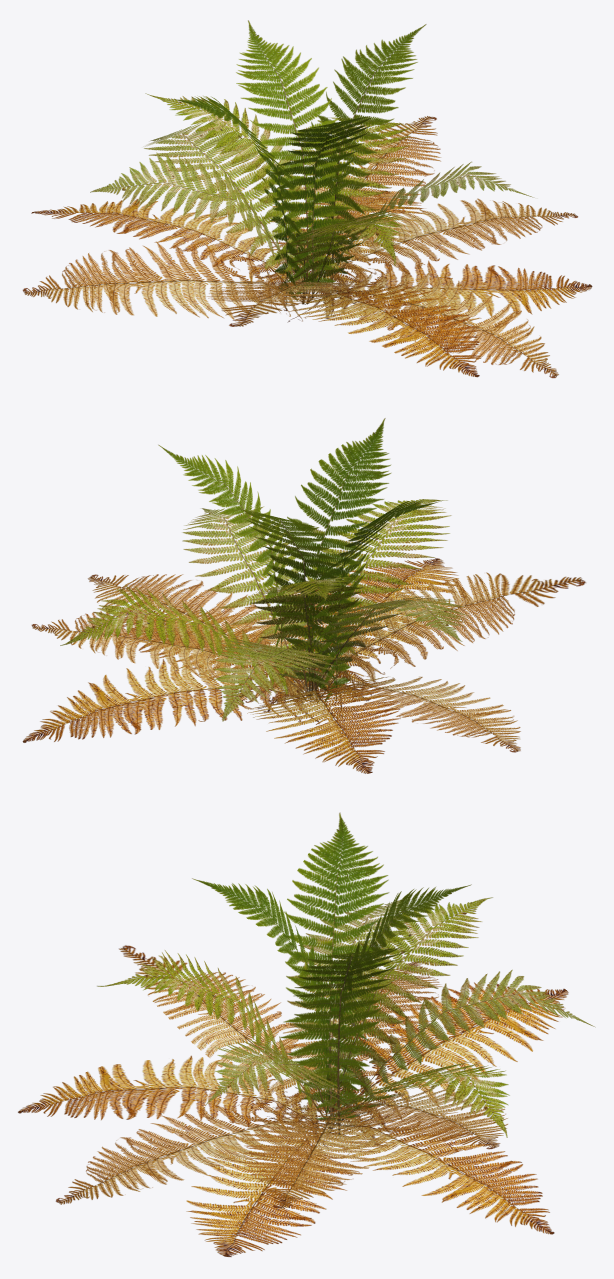
Rendered from fern_low_poly_512.glb.
The picture shows the model from 3 angles, top to bottom: view 1: azimuth 30°, elevation 25°; view 2: azimuth 150°, elevation 25°; view 3: azimuth 270°, elevation 25°; orthographic projection. The views are drawn at different scales.
Visible parts, largest first — view 1: polySurface40.001; view 2: polySurface40.001; view 3: polySurface40.001.
Boxes of the visible parts, box(x1,y1,x2,y2) form: polySurface40.001: box(22, 20, 592, 378); polySurface40.001: box(22, 418, 585, 773); polySurface40.001: box(18, 812, 595, 1256).
Bounding box in the file's own units: 1.41 × 0.6501 × 1.32.
3 materials, 3 textured.
